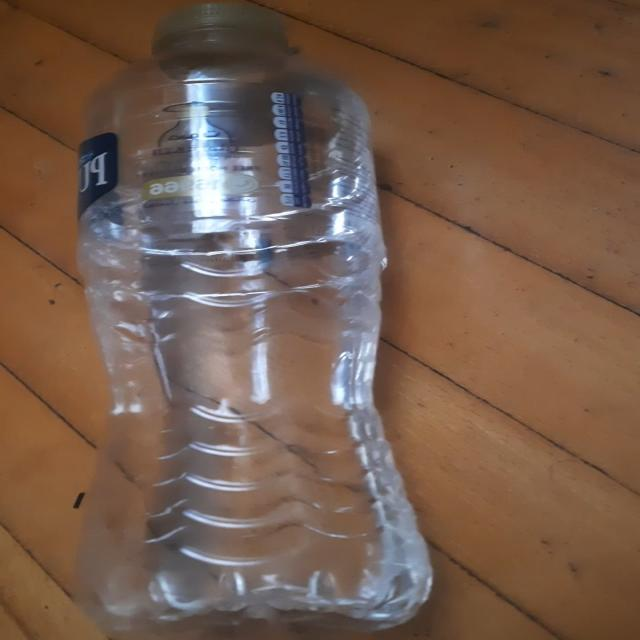Plastic: (79, 3, 435, 640)
